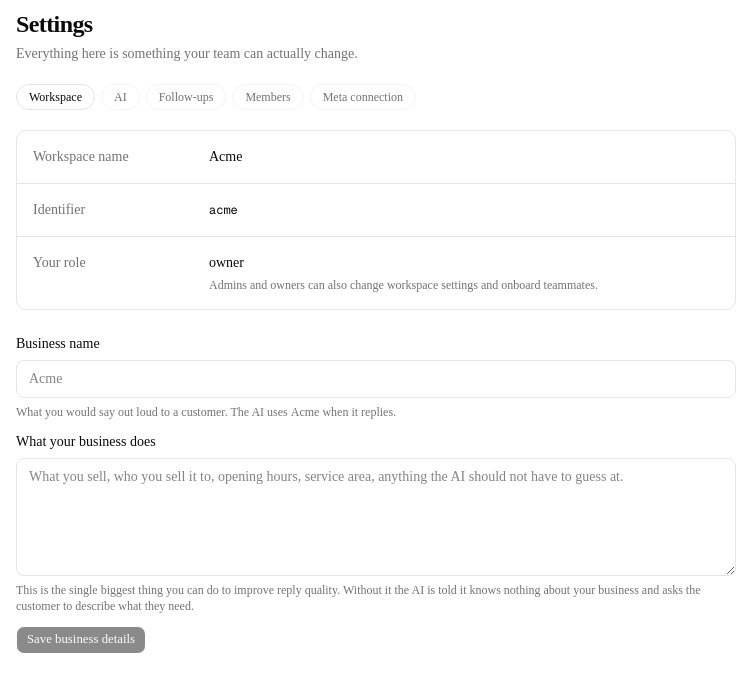
Test case: Settings: business profile › saves the business description and tells the AI will use it
Expected: the text "Identifier" is shown, [33,202,85,217]
Replace the text in the text box labelled "What your business does" with "We sell used cars in Leeds." at x=376, y=517, box [16,458,736,576]
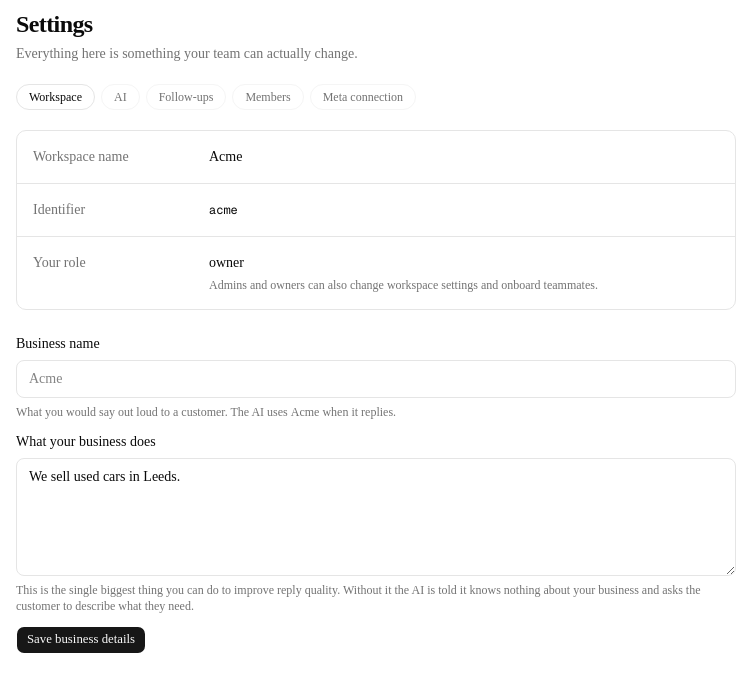
Click the button "Save business details" at x=81, y=640, box [16,626,146,654]
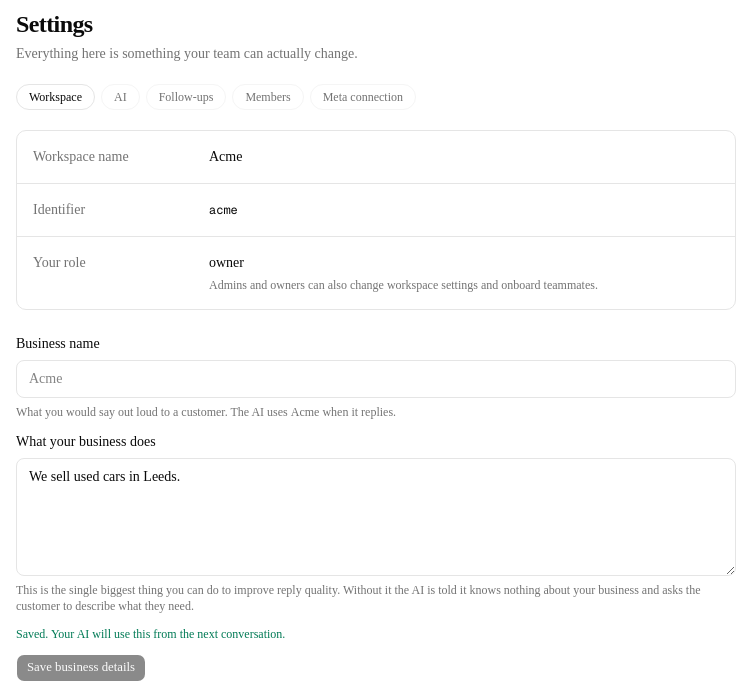
Expected: the text "Saved. Your AI will use this from the next conversation." is shown, [16,627,285,641]
